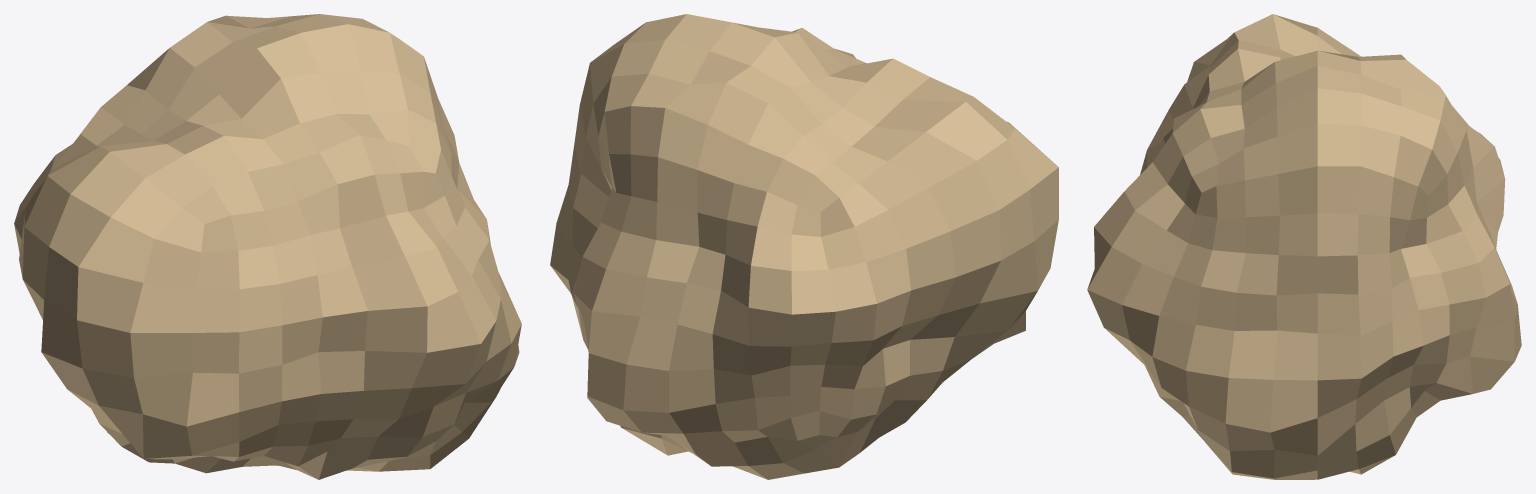
The model's file is AsteriodOne.dae.
3 renders of one model, left to right at view 1: azimuth 30°, elevation 25°; view 2: azimuth 150°, elevation 25°; view 3: azimuth 270°, elevation 25°, orthographic. The views are drawn at different scales.
Parts seen in each view (by area): view 1: STILL_NOT_A_FUCKING_CUBE__IF_YOU_WANNA_FIGHT_BLENDER__YOU_RE; view 2: STILL_NOT_A_FUCKING_CUBE__IF_YOU_WANNA_FIGHT_BLENDER__YOU_RE; view 3: STILL_NOT_A_FUCKING_CUBE__IF_YOU_WANNA_FIGHT_BLENDER__YOU_RE.
Boxes of the visible parts, x1,y1,x2,y2 form: STILL_NOT_A_FUCKING_CUBE__IF_YOU_WANNA_FIGHT_BLENDER__YOU_RE: (14,14,521,479); STILL_NOT_A_FUCKING_CUBE__IF_YOU_WANNA_FIGHT_BLENDER__YOU_RE: (550,14,1058,479); STILL_NOT_A_FUCKING_CUBE__IF_YOU_WANNA_FIGHT_BLENDER__YOU_RE: (1087,14,1521,479).
Size of the model in its own units: 1.88 by 1.71 by 1.69.
